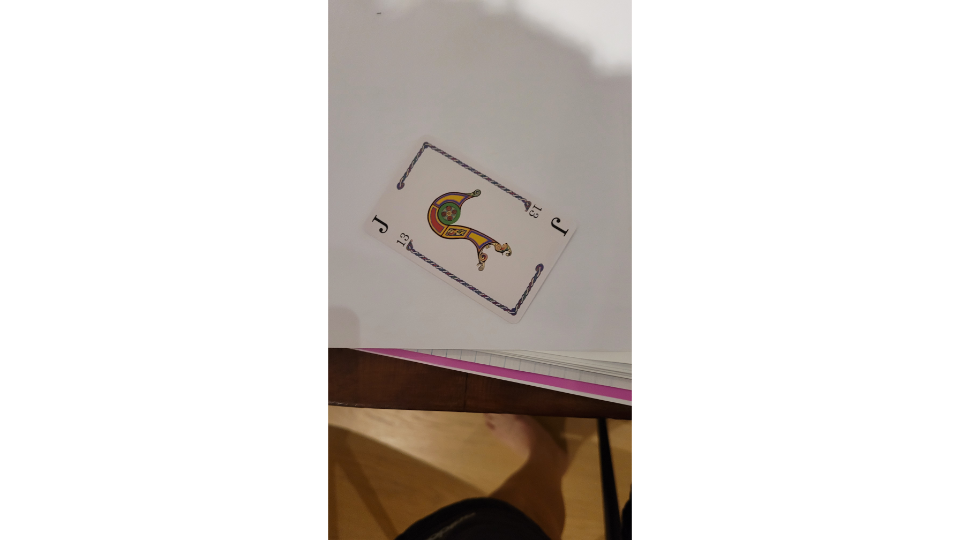J: (361, 132, 581, 327)
